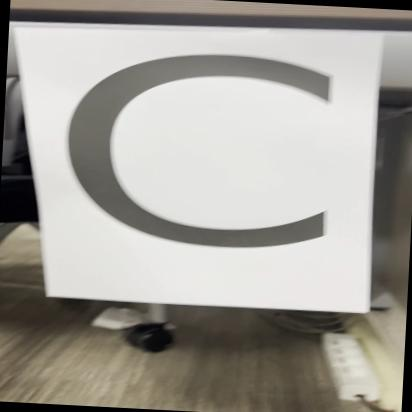seat: (0, 9, 412, 322)
